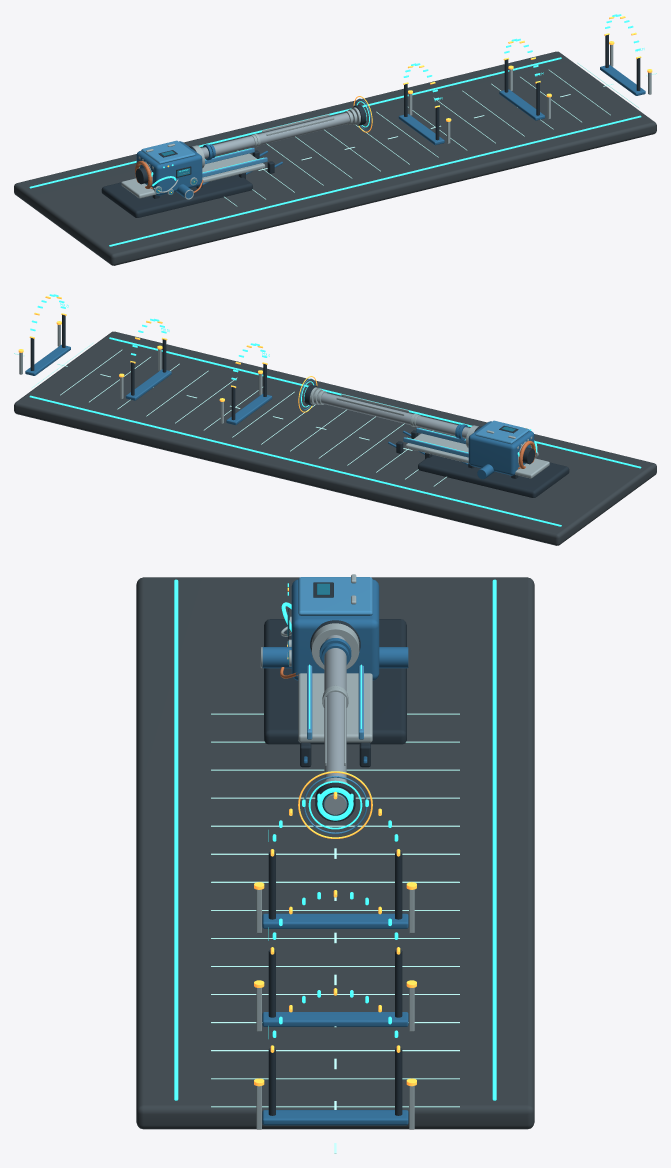
The model's file is machforge_range.glb.
3 views of the same model, one above another, from view 1: azimuth 30°, elevation 25°; view 2: azimuth 150°, elevation 25°; view 3: azimuth 270°, elevation 25° (orthographic). The views are drawn at different scales.
Parts seen in each view (by area): view 1: Range foundation, Launch plinth, Main ceramic barrel, Breech armor core, Lane edge light channel, Twin recoil rails, Lane edge light channel.001, Top service deck, Target gate base.001, Target gate base, Target gate base.002; view 2: Range foundation, Launch plinth, Breech armor core, Main ceramic barrel, Lane edge light channel.001, Twin recoil rails, Lane edge light channel, Top service deck, Target gate base.001, Target gate base, Target gate base.002; view 3: Range foundation, Launch plinth, Breech armor core, Main ceramic barrel, Twin recoil rails, Lane edge light channel, Lane edge light channel.001, Top service deck, Target gate base.002, Target gate base, Target gate base.001, Barrel root collar.
Boxes of the visible parts, x1,y1,x2,y2 form: Range foundation: (14, 51, 656, 265); Launch plinth: (101, 174, 252, 217); Main ceramic barrel: (201, 112, 357, 158); Breech armor core: (136, 141, 202, 195); Lane edge light channel: (109, 115, 641, 246); Twin recoil rails: (121, 153, 265, 198); Lane edge light channel.001: (29, 57, 561, 188); Top service deck: (141, 140, 195, 164); Target gate base.001: (499, 89, 545, 120); Target gate base: (398, 114, 444, 145); Target gate base.002: (600, 64, 645, 95); Range foundation: (14, 331, 656, 545); Launch plinth: (418, 454, 569, 497); Breech armor core: (468, 421, 534, 475); Main ceramic barrel: (313, 392, 469, 438); Lane edge light channel.001: (29, 395, 561, 526); Twin recoil rails: (405, 433, 549, 478); Lane edge light channel: (109, 337, 641, 468); Top service deck: (475, 420, 529, 444); Target gate base.001: (125, 369, 171, 400); Target gate base: (226, 394, 272, 425); Target gate base.002: (25, 344, 70, 375); Range foundation: (136, 577, 534, 1129); Launch plinth: (264, 619, 406, 744); Breech armor core: (291, 579, 379, 680); Main ceramic barrel: (324, 635, 346, 814); Twin recoil rails: (298, 673, 372, 742); Lane edge light channel: (174, 579, 178, 1100); Lane edge light channel.001: (492, 579, 496, 1100); Top service deck: (298, 577, 372, 615); Target gate base.002: (262, 1110, 408, 1125); Target gate base: (262, 913, 408, 928); Target gate base.001: (262, 1012, 408, 1026); Barrel root collar: (311, 623, 359, 669).
Size of the model in its own units: 41.36 by 5.18 by 12.
